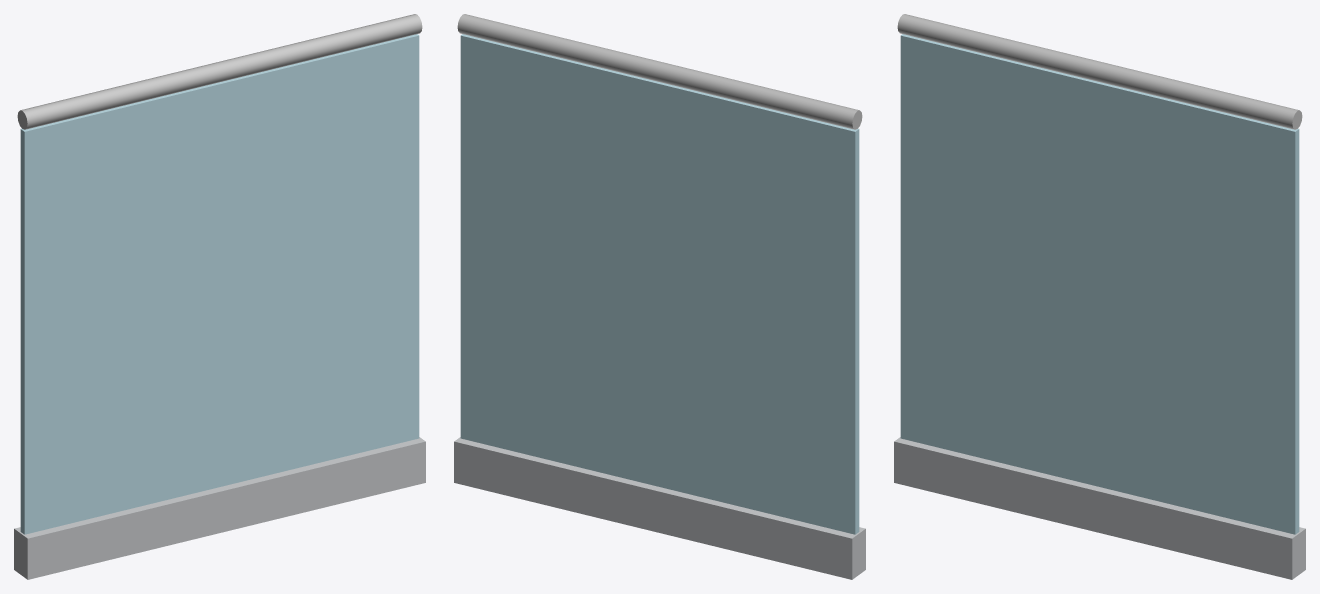
File: circulation.balustrade.glass.glb
3 renders of one model, left to right at view 1: azimuth 30°, elevation 25°; view 2: azimuth 150°, elevation 25°; view 3: azimuth 330°, elevation 25°, orthographic.
Parts seen in each view (by area): view 1: main__glass, main__aluminium, main__steel_stainless; view 2: main__glass, main__aluminium, main__steel_stainless; view 3: main__glass, main__aluminium, main__steel_stainless.
Boxes of the visible parts, x1,y1,x2,y2 form: main__glass: [20, 34, 419, 534]; main__aluminium: [14, 437, 425, 579]; main__steel_stainless: [17, 14, 422, 129]; main__glass: [460, 34, 859, 534]; main__aluminium: [454, 437, 865, 579]; main__steel_stainless: [457, 14, 862, 129]; main__glass: [900, 34, 1299, 534]; main__aluminium: [894, 437, 1305, 579]; main__steel_stainless: [897, 14, 1302, 129].
Bounding box in the file's own units: 1.01 × 1.12 × 0.06.
